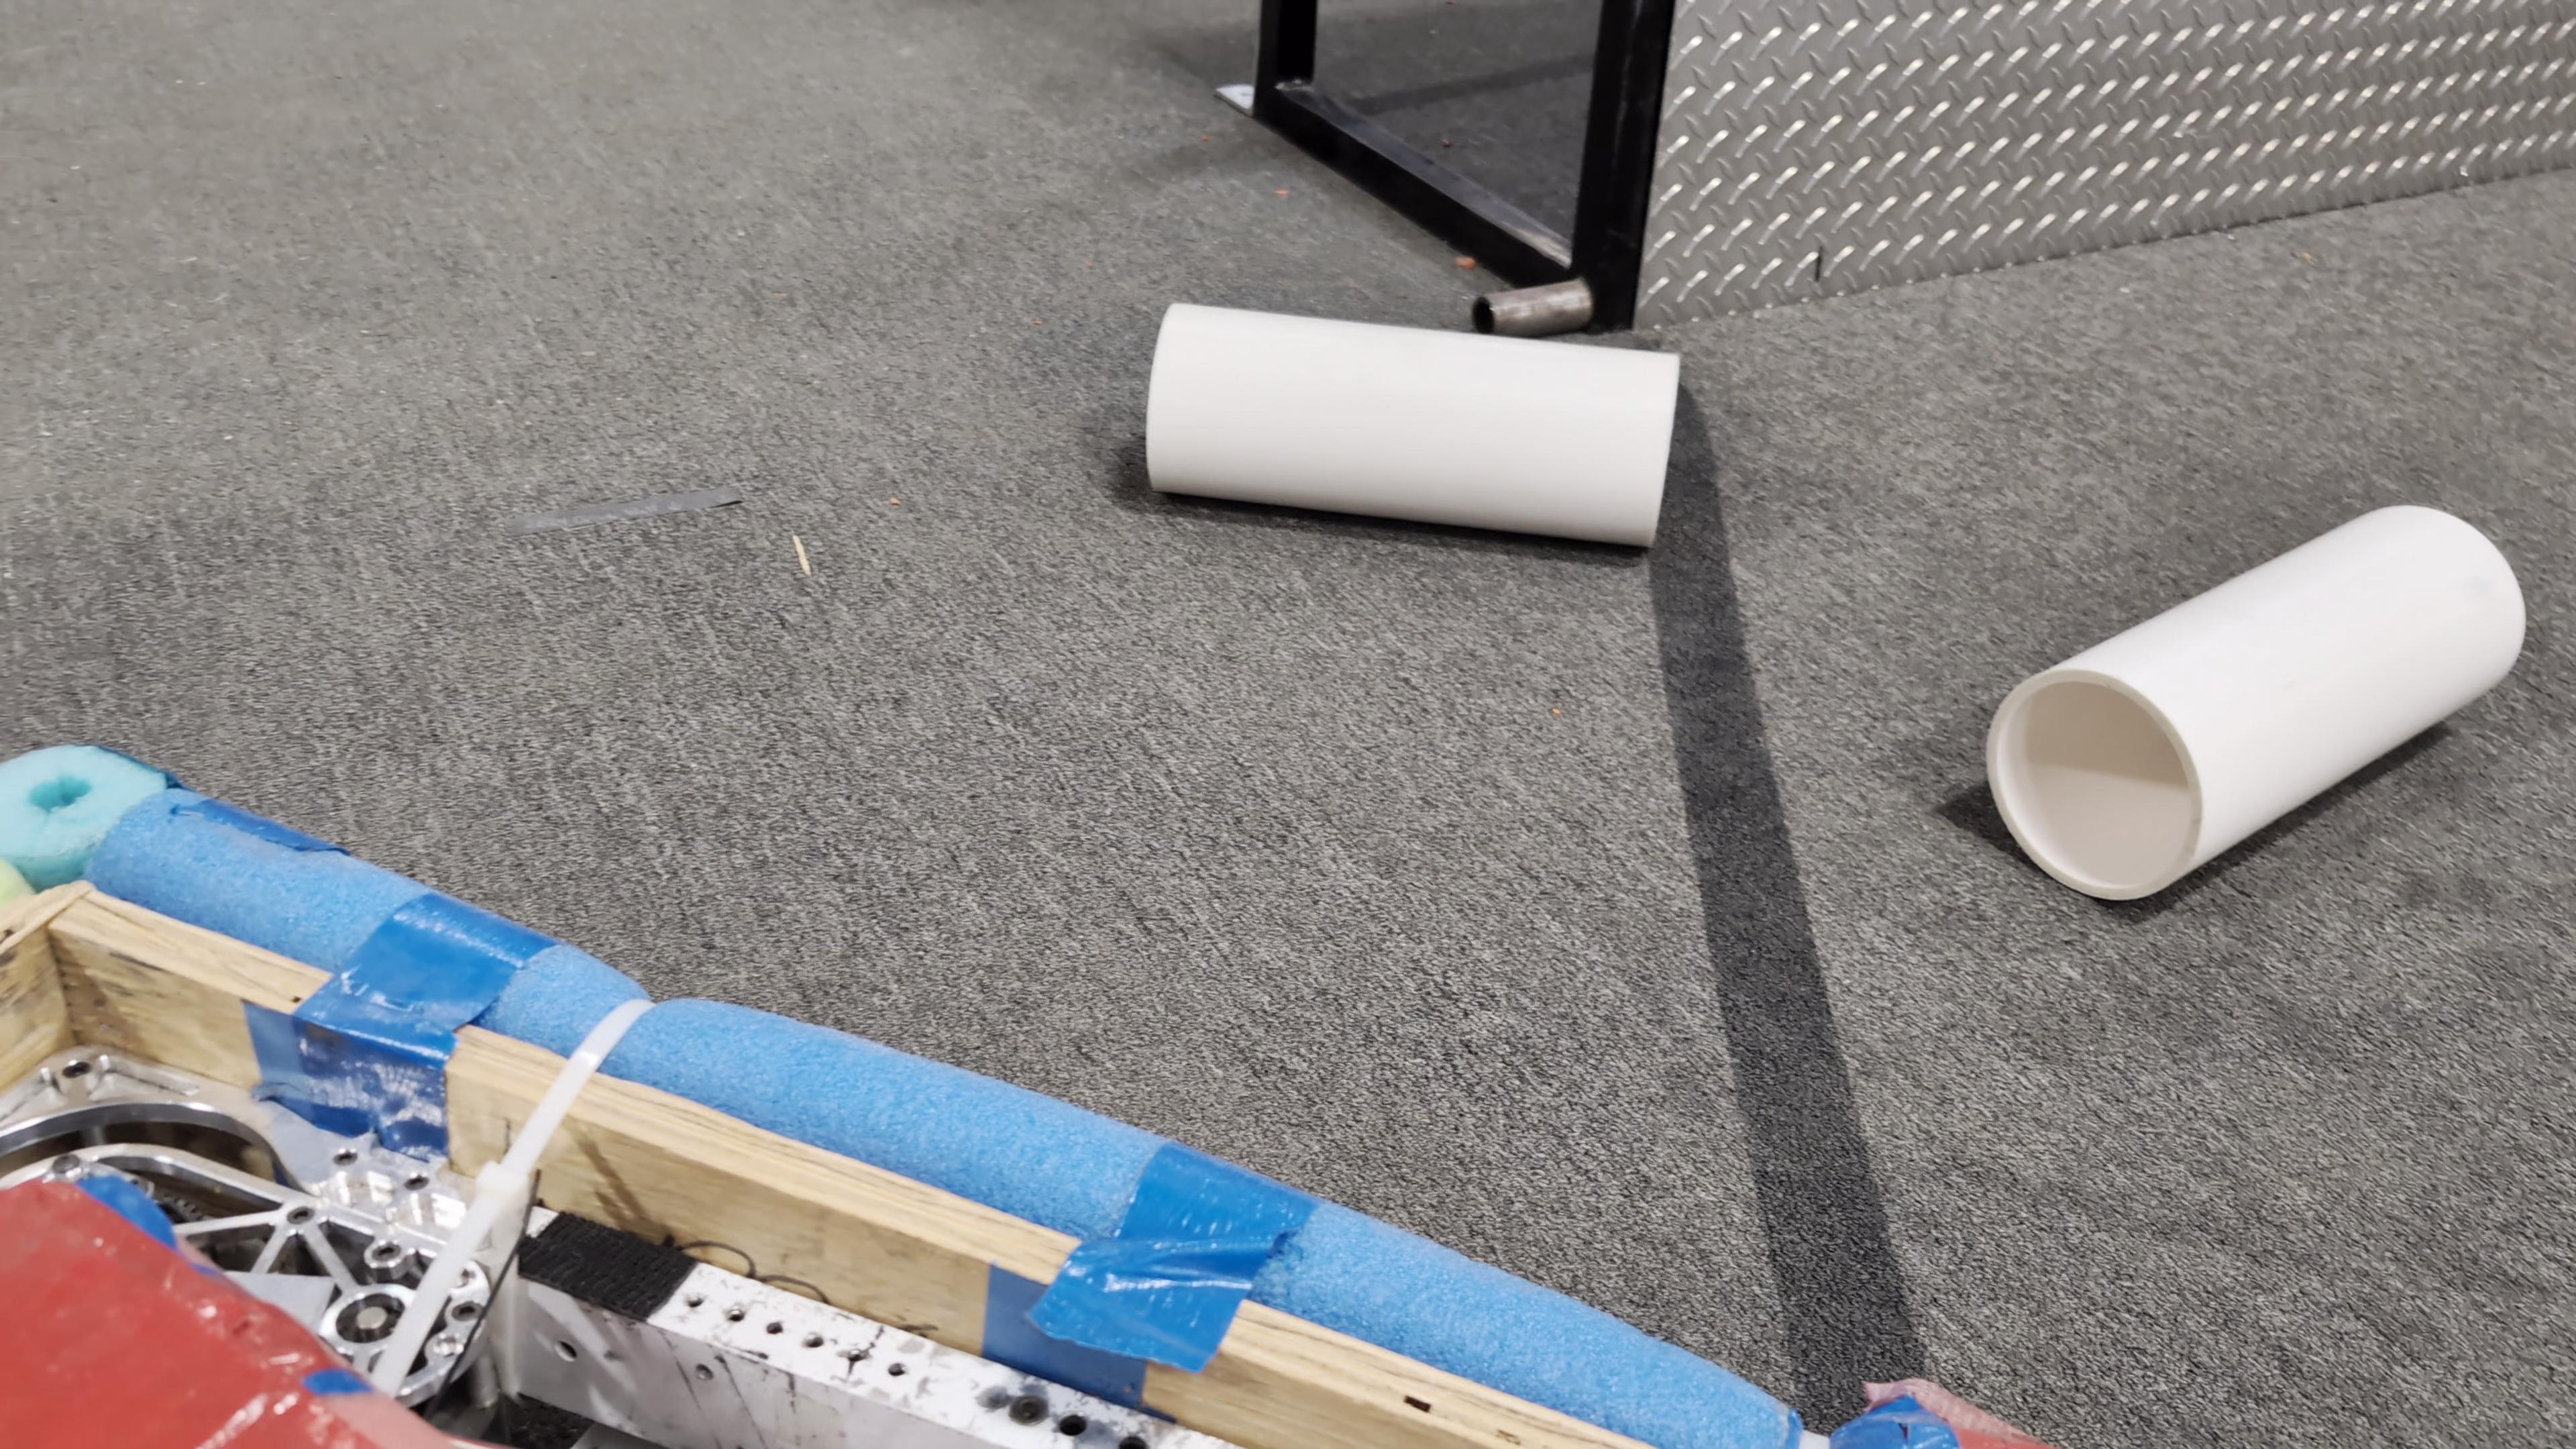coral: (1982, 498, 2528, 902), (1142, 296, 1684, 550)
